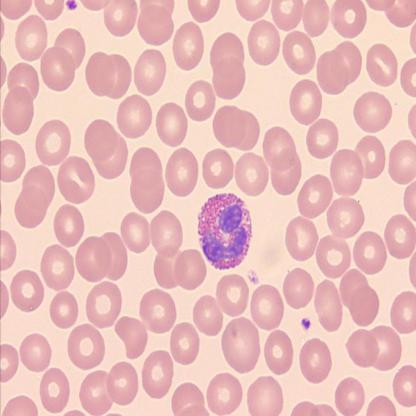Eosinophil: (198, 191, 252, 271)
